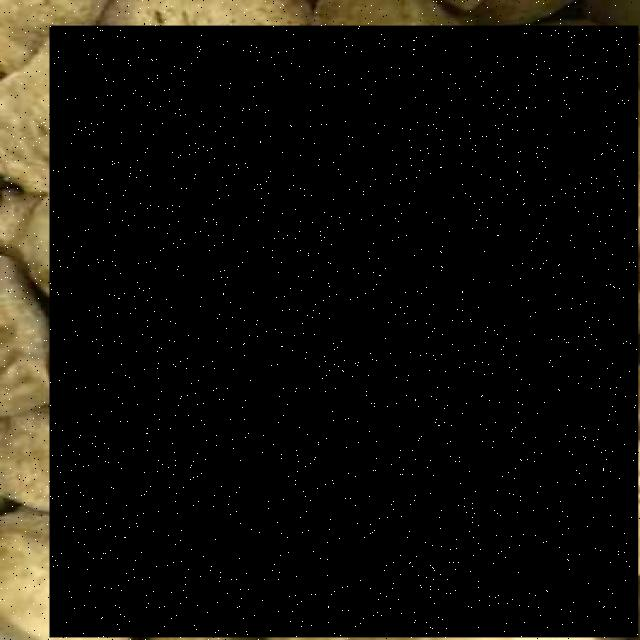Nutrela: (49, 25, 640, 638)
